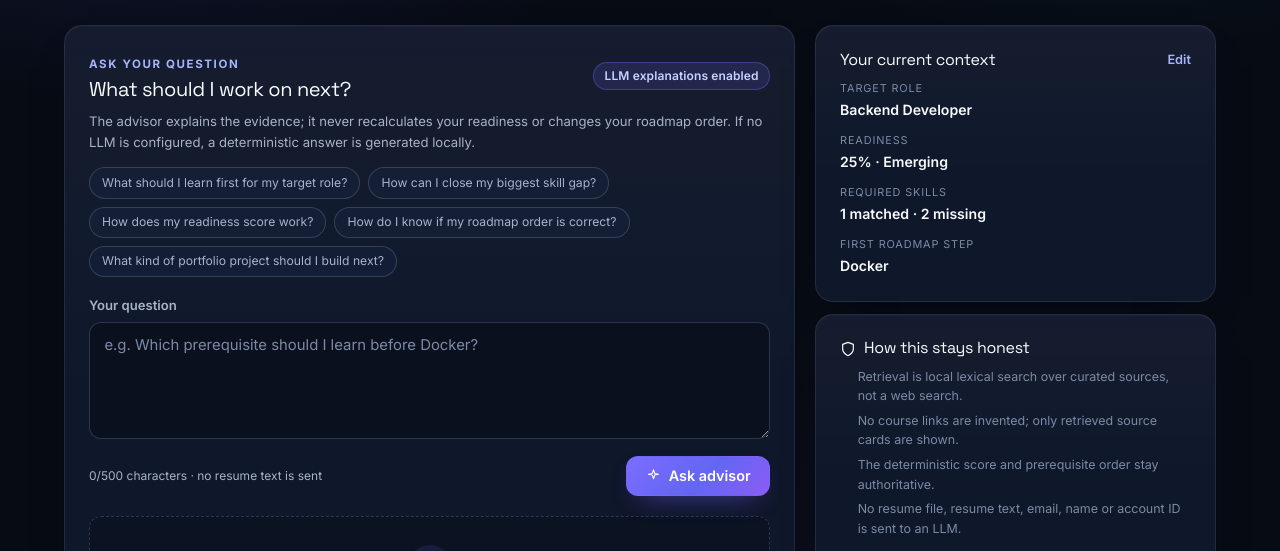
Test case: AdvisorPage › labels a validated LLM answer as such and keeps its sources visible
This screenshot has width=1280, height=551.
expect the text "LLM explanations enabled" is shown: met, box [593,62,770,90]
Type "What next?" into the text box labelled "Your question". click: (430, 380)
box: [89,322,770,439]
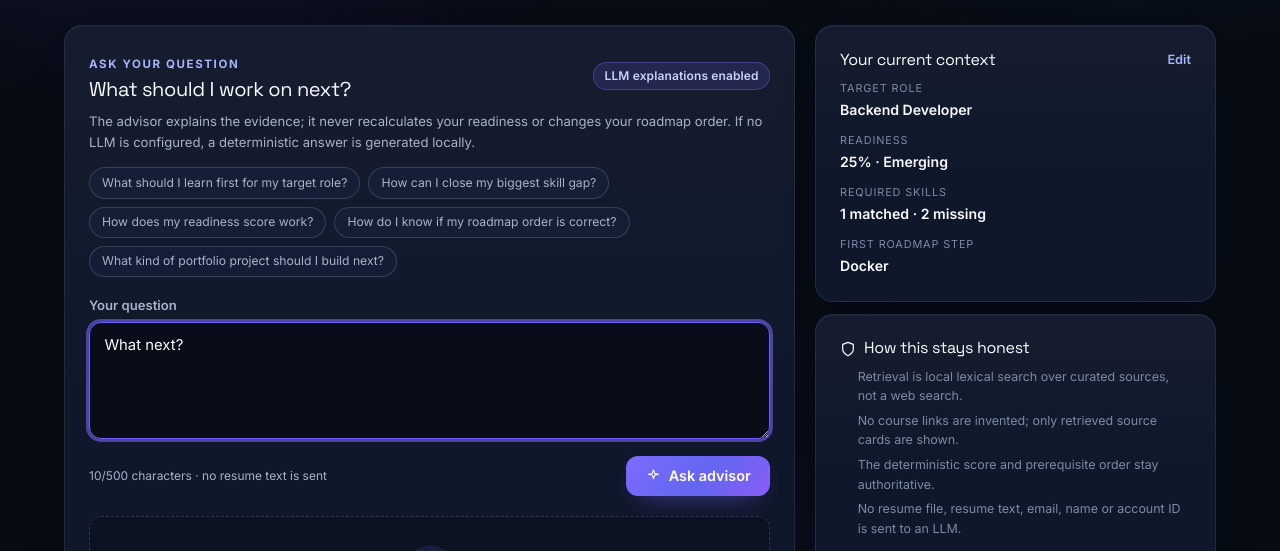
Click the button "Ask advisor". click: (698, 476)
box: [626,456,770,496]
(page scrolled)
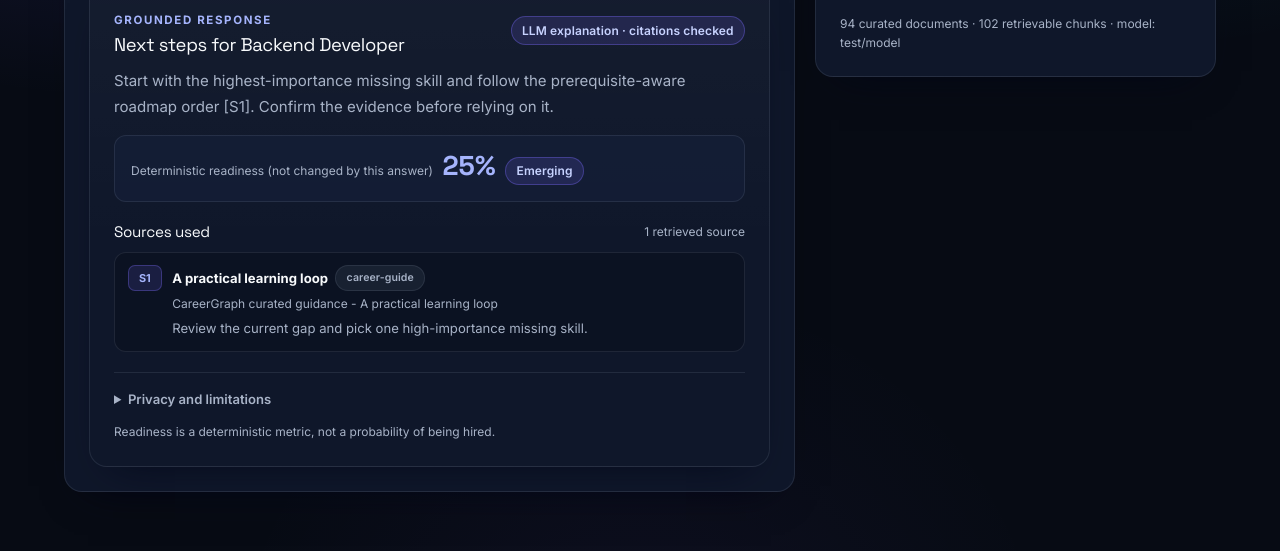
expect the text "LLM explanation · citations checked" is shown: met, box [511,16,745,45]
expect the text "A practical learning loop" is shown: met, box [172,268,328,289]
